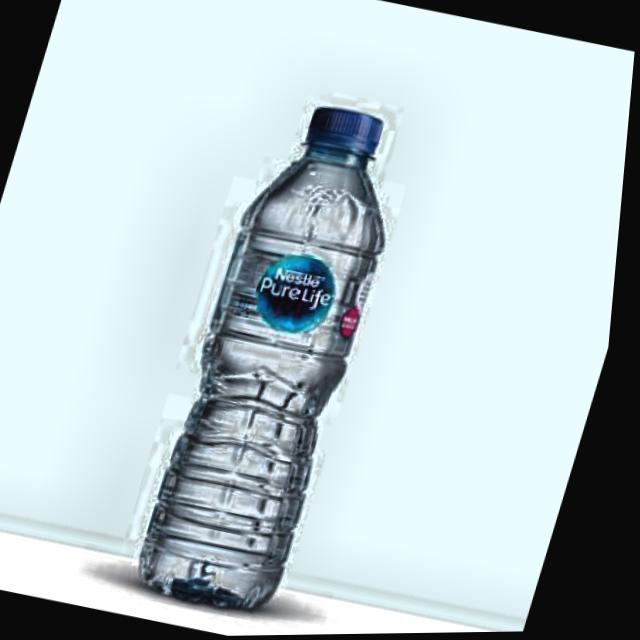Bottles: (122, 80, 438, 626)
